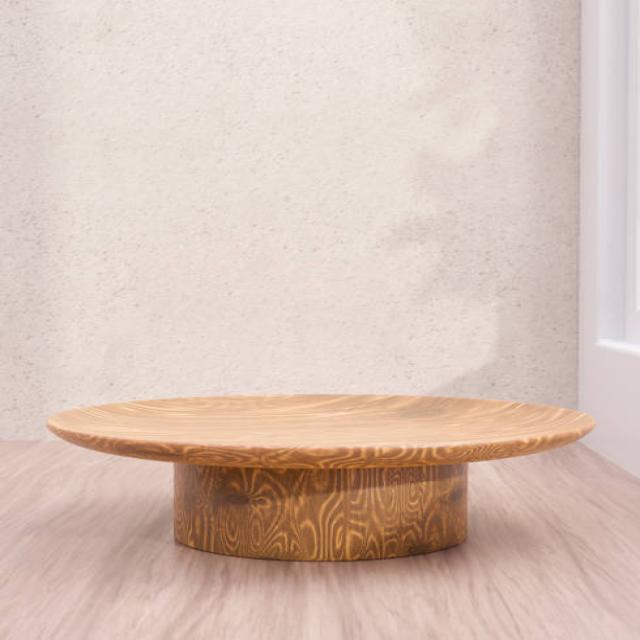table: (44, 391, 596, 562)
